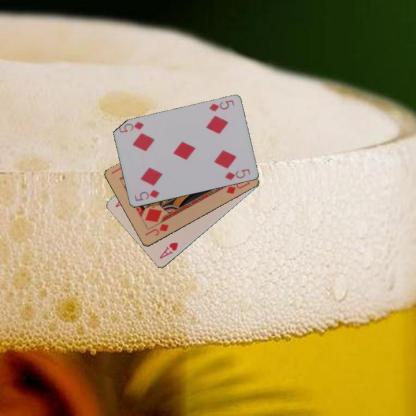5d: (132, 187, 160, 203), (206, 98, 235, 112)
Ah: (156, 240, 180, 260)
Jd: (143, 221, 170, 238)
